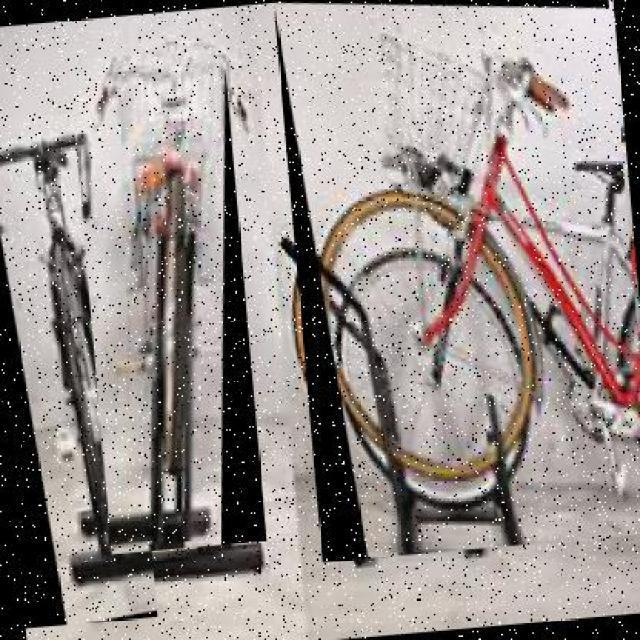bicycle: (274, 1, 639, 565), (70, 51, 270, 557), (1, 111, 161, 634)
